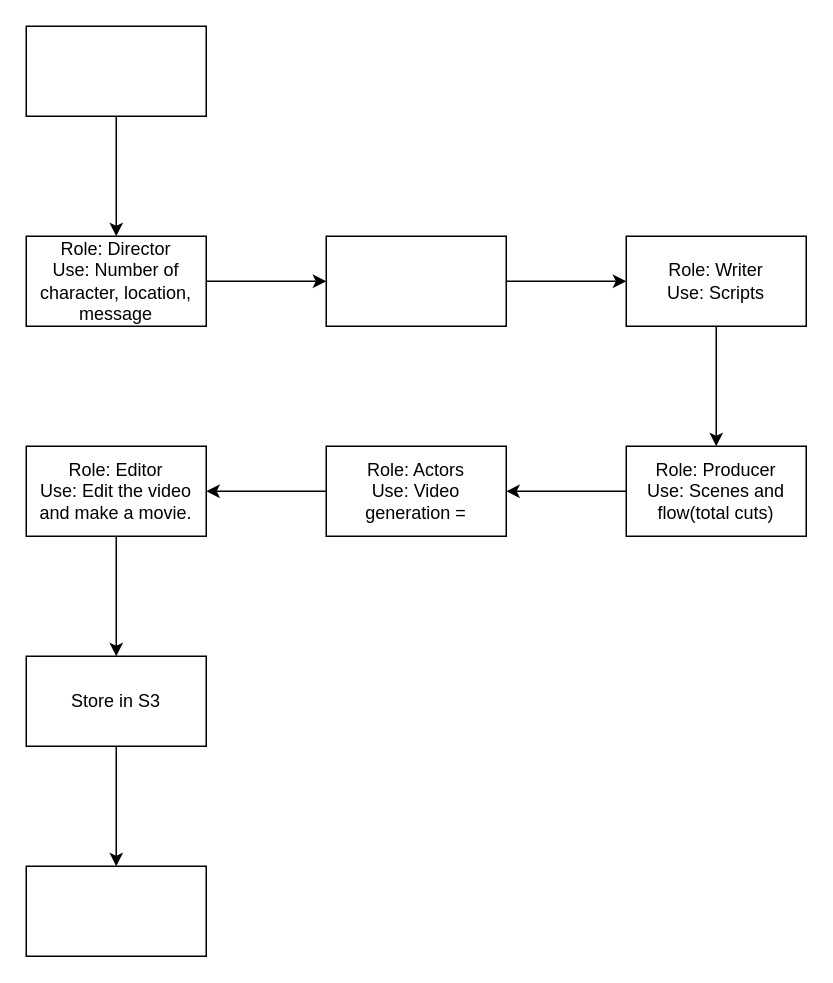
The diagram is 833 pixels wide and 983 high, and some of its shapes have lost their labels. The centre of each missing label's shape, as x and y in pixels:
Display in FE: (115,910)
Frontend (Message): (115,70)
Role: Content Writer Use: Story: (415,280)
